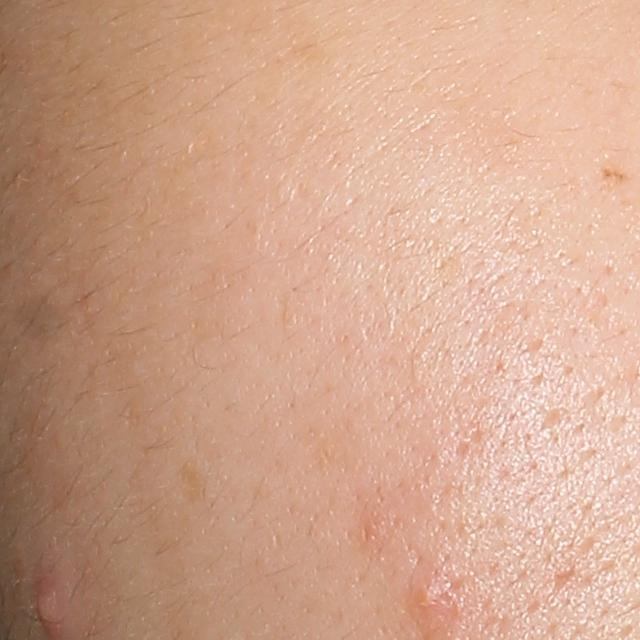papule: (403, 565, 461, 627), (37, 571, 66, 639)
